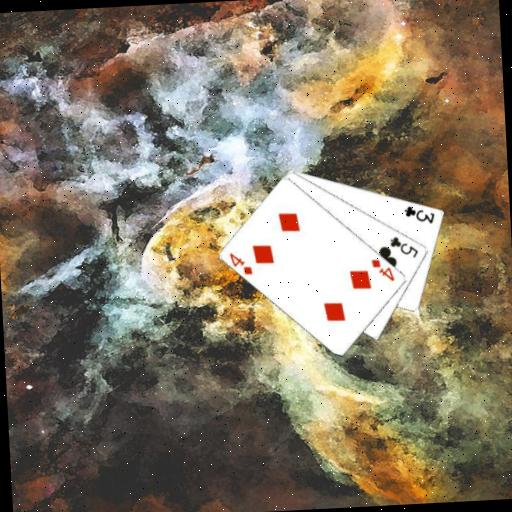3C: (402, 202, 437, 227)
4D: (369, 256, 397, 285), (227, 249, 255, 278)
5C: (387, 232, 421, 261)
